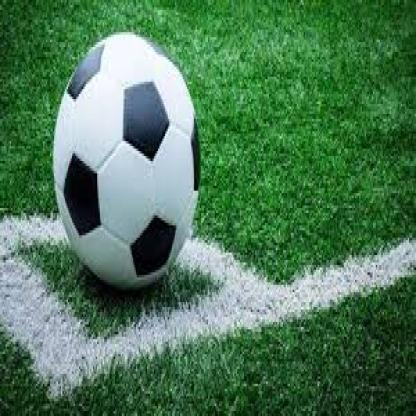ball: (54, 33, 200, 294)
